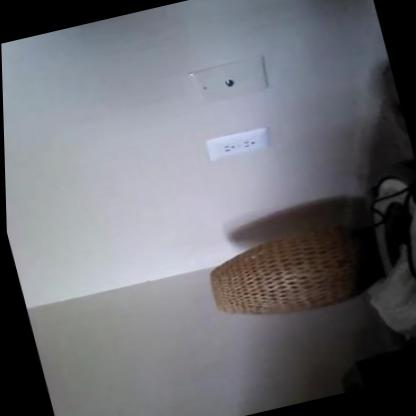OUTLET: (204, 125, 272, 161)
